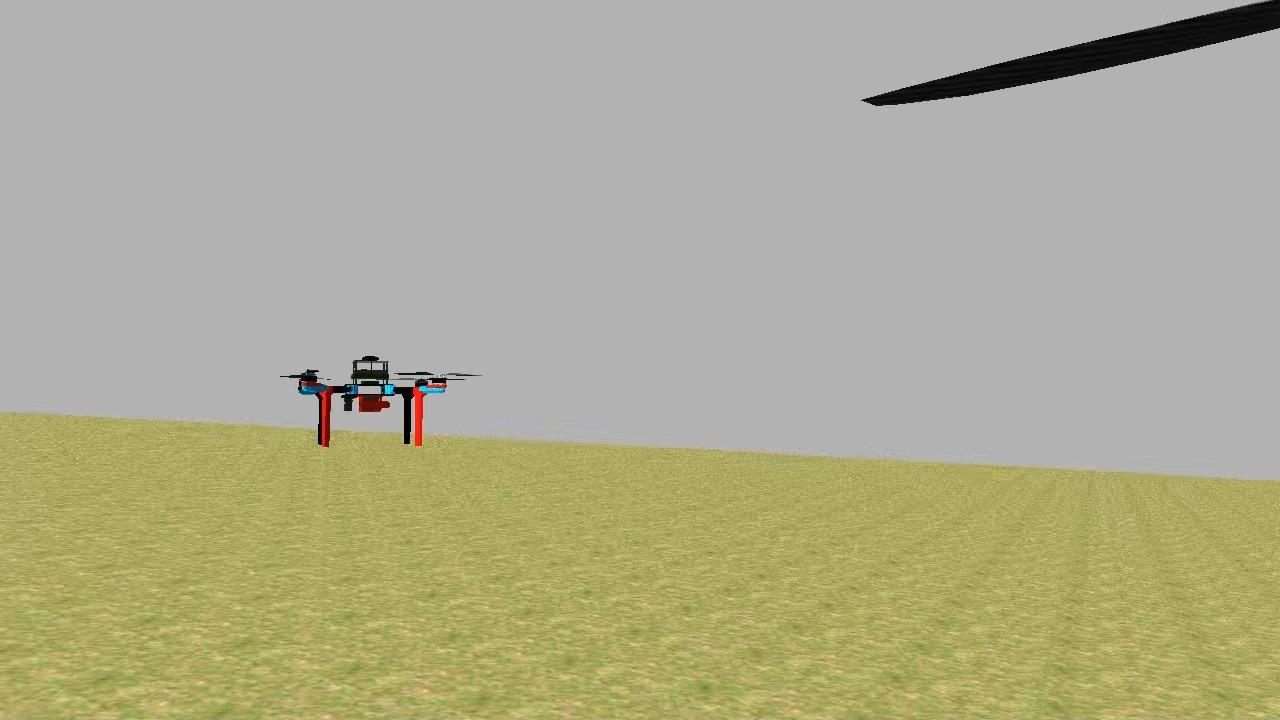UAV: (288, 350, 458, 448)
